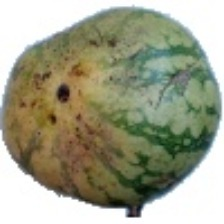watermelon: (37, 18, 182, 200)
